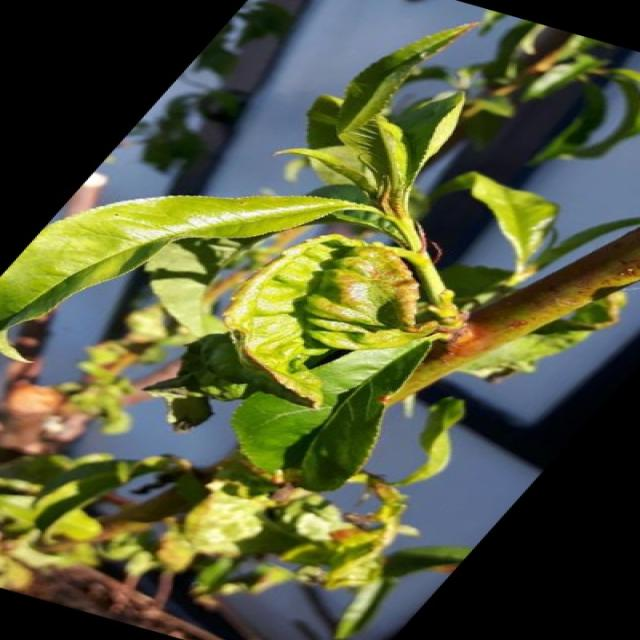peach_leaf_curl: (219, 232, 435, 410)
